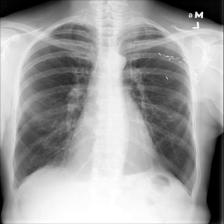normal: (9, 17, 200, 199)
